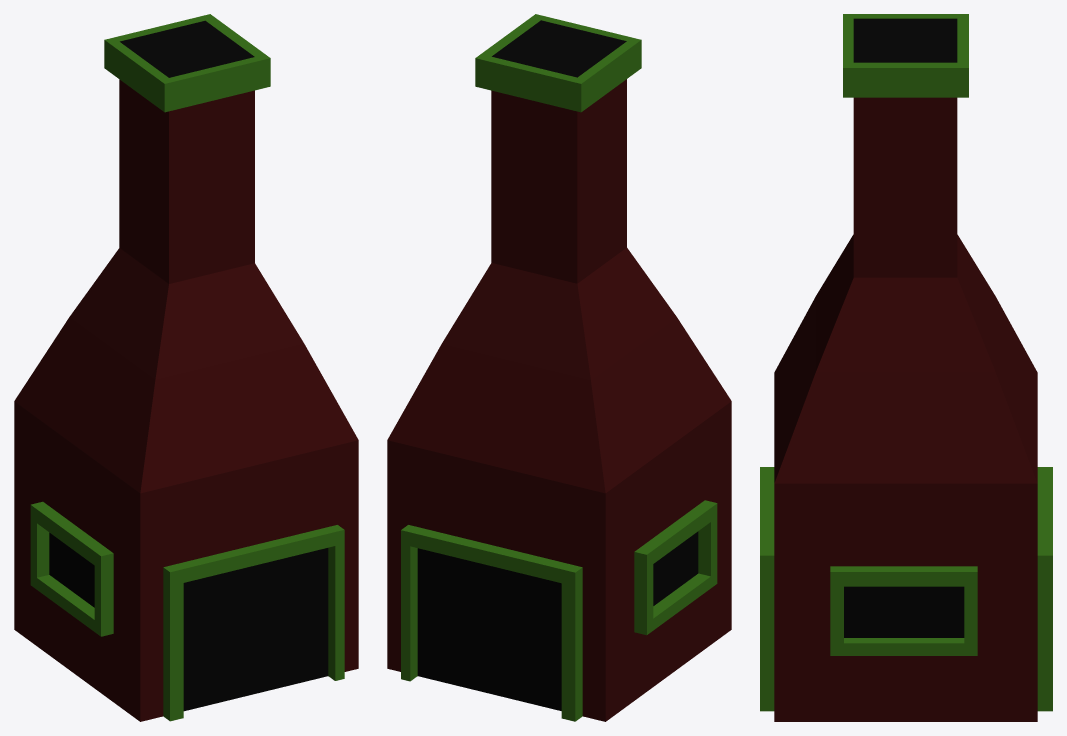
Rendered from ResourceBuilding.FBX.
3 views of the same model, side by side, from view 1: azimuth 30°, elevation 25°; view 2: azimuth 150°, elevation 25°; view 3: azimuth 270°, elevation 25° (orthographic). The views are drawn at different scales.
Visible parts, largest first — view 1: ResourceBuilding; view 2: ResourceBuilding; view 3: ResourceBuilding.
Boxes of the visible parts, x1=… form: ResourceBuilding: x1=14, y1=14, x2=358, y2=721; ResourceBuilding: x1=387, y1=14, x2=731, y2=721; ResourceBuilding: x1=760, y1=14, x2=1052, y2=721.
Size of the model in its own units: 218 by 219 by 517.
